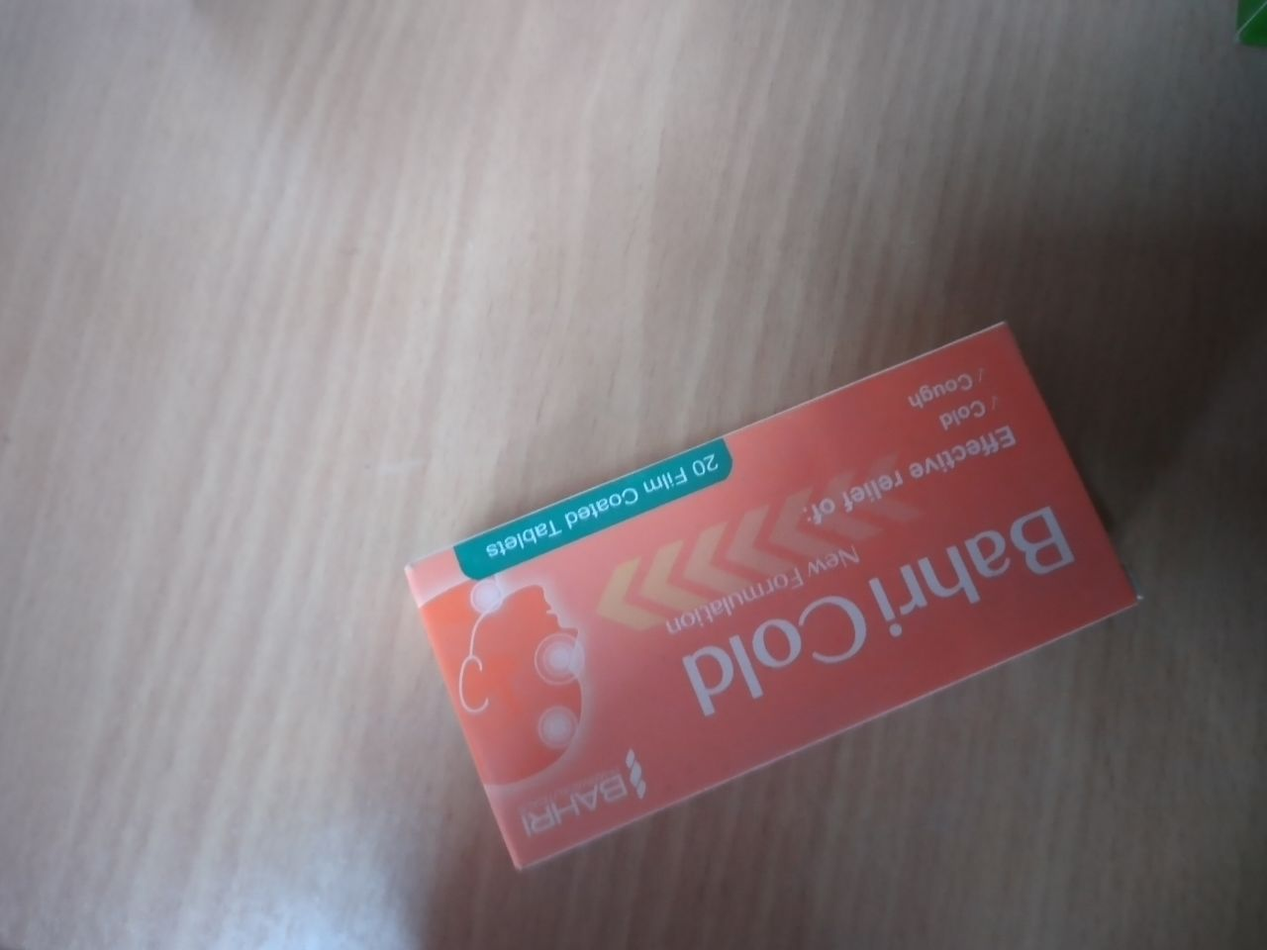Medicine: (401, 327, 1148, 883)
